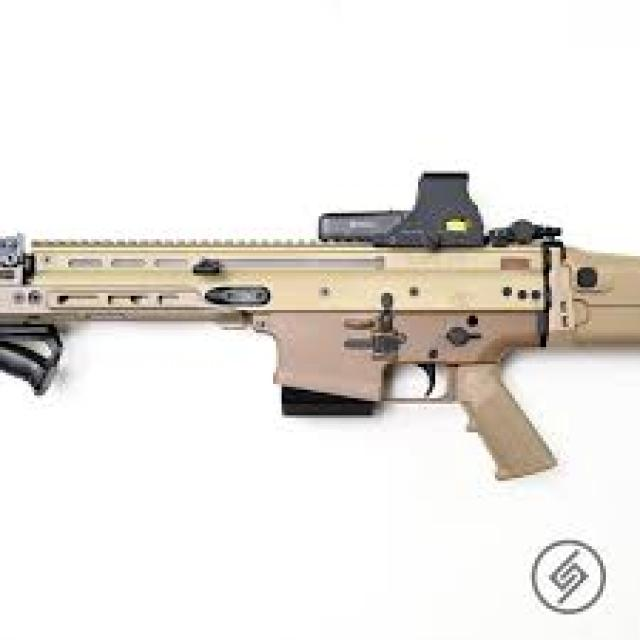Gun: (0, 175, 640, 478)
